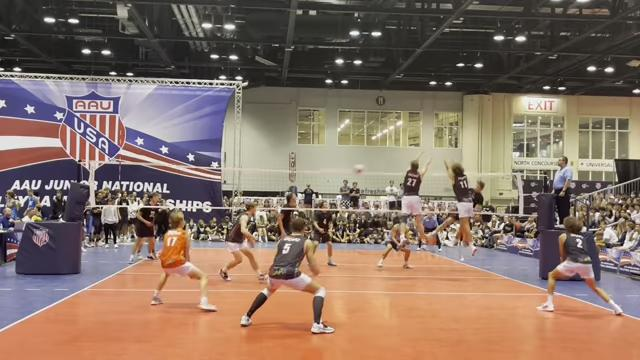Attack: (466, 175, 491, 240)
Block: (444, 153, 480, 260), (399, 148, 428, 249)
Player: (241, 218, 333, 333), (537, 217, 622, 314), (151, 211, 216, 311), (219, 203, 265, 280), (129, 193, 159, 262), (313, 201, 336, 265), (378, 224, 411, 268), (277, 192, 296, 237)
